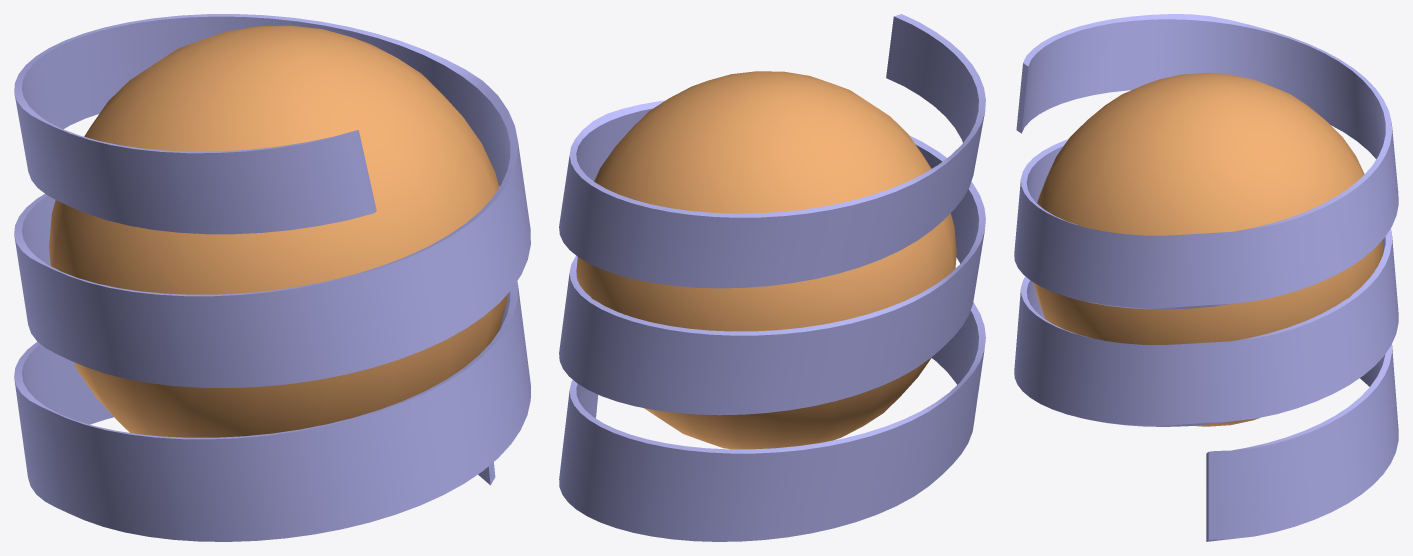
The model's file is ball.glb.
3 views of the same model, side by side, from view 1: azimuth 30°, elevation 25°; view 2: azimuth 150°, elevation 25°; view 3: azimuth 270°, elevation 25° (orthographic). The views are drawn at different scales.
Parts seen in each view (by area): view 1: nurbsToPoly1, pSphere1; view 2: nurbsToPoly1, pSphere1; view 3: nurbsToPoly1, pSphere1.
Part boxes in pixels (x1,y1,x2,y2): nurbsToPoly1: [14, 14, 530, 541]; pSphere1: [49, 25, 507, 437]; nurbsToPoly1: [559, 14, 985, 541]; pSphere1: [576, 71, 956, 449]; nurbsToPoly1: [1014, 14, 1398, 541]; pSphere1: [1033, 73, 1383, 426].
Bounding box in the file's own units: 0.0225 × 0.024 × 0.0217.
